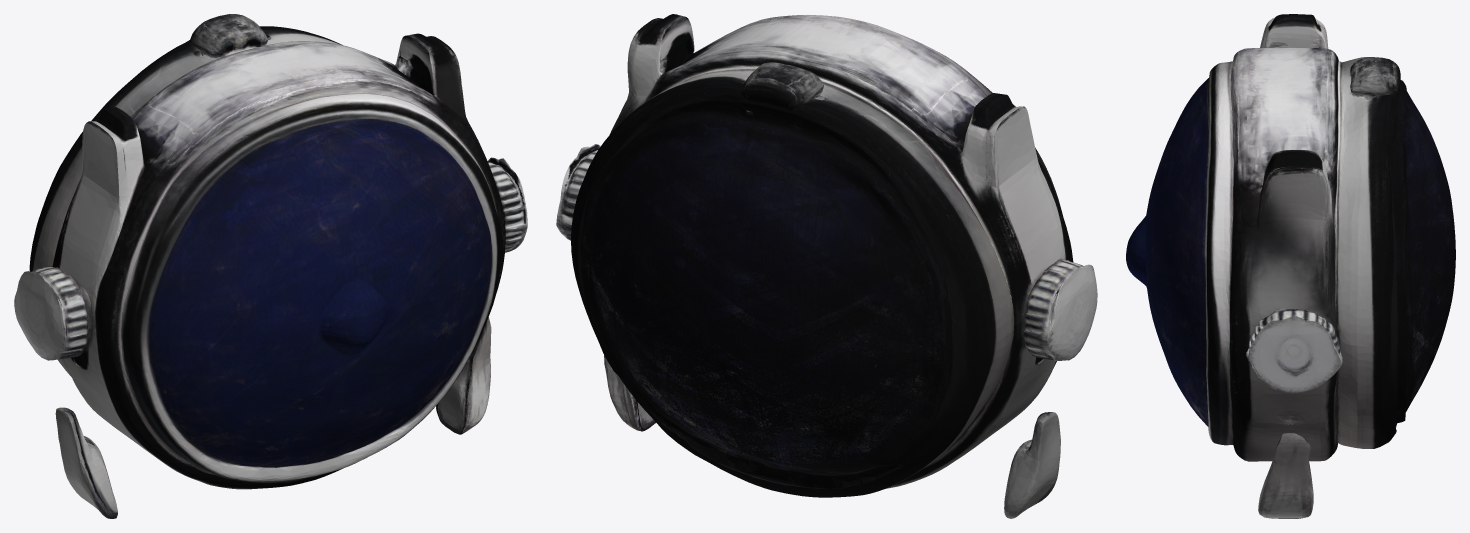
The model's file is gen-hero-2k.glb.
3 views of the same model, side by side, from view 1: azimuth 30°, elevation 25°; view 2: azimuth 150°, elevation 25°; view 3: azimuth 270°, elevation 25° (orthographic). The views are drawn at different scales.
Visible parts, largest first — view 1: world; view 2: world; view 3: world.
Part boxes in pixels (x1,y1,x2,y2): world: (14, 14, 527, 518); world: (556, 14, 1097, 518); world: (1126, 14, 1455, 518).
Bounding box in the file's own units: 0.9874 × 0.8343 × 0.6573.
1 material, 1 textured.
